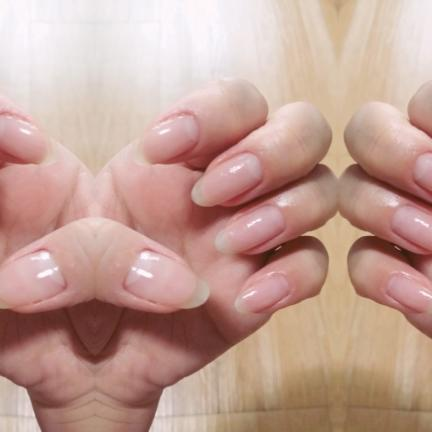Nail: (122, 250, 209, 309), (0, 250, 66, 309), (130, 113, 201, 167), (190, 153, 261, 207), (213, 206, 284, 255), (0, 113, 58, 167), (233, 273, 288, 314), (390, 206, 432, 253), (386, 273, 432, 314), (413, 153, 432, 193)
